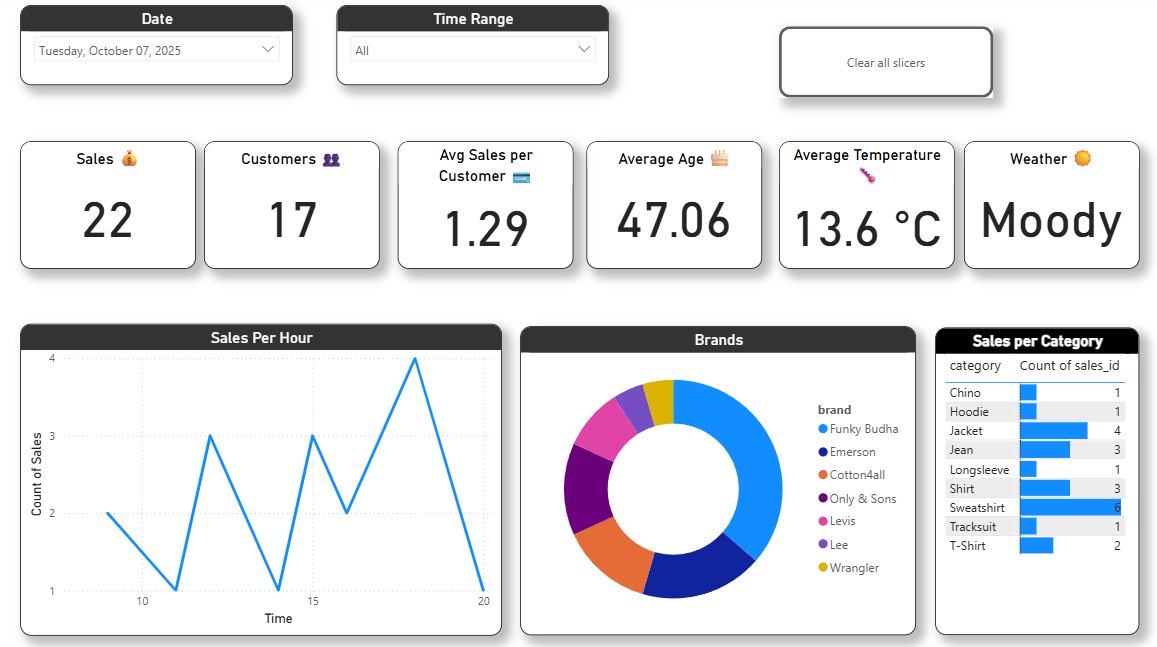

This screenshot's page, from the dashboard's own definition file:
{"tool":"powerbi","page":{"name":"Previus Day 1","canvas":[1280,720],"ordinal":1},"visuals":[{"type":"slicer","title":"Date","fields":{"Values":["retail v_kpi_daily.day"]},"box":[28.5,11.4,299.3,88.4],"z":0},{"type":"lineChart","title":"Sales Per Hour","fields":{"Y":["CountNonNull(retail v_sales_fct.sales_id)"],"Category":["retail v_sales_fct.HourOrder"]},"box":[28.5,360.6,528.8,342.1],"z":1000},{"type":"actionButton","box":[862.4,34.2,235.2,78.4],"z":2000},{"type":"card","title":"Sales 💰","fields":{"Values":["CountNonNull(retail v_sales_fct.sales_id)"]},"box":[28.5,161.1,192.4,139.7],"z":3000},{"type":"card","title":"Average Temperature 🌡️","fields":{"Values":["retail v_sales_fct.AvgWeather_C"]},"box":[862.4,161.1,192.4,139.7],"z":4000},{"type":"card","title":"Customers 👥","fields":{"Values":["Count(retail v_sales_fct.customer_id)"]},"box":[230.9,161.1,192.4,139.7],"z":5000},{"type":"donutChart","title":"Brands","fields":{"Category":["retail v_sales_fct.brand"],"Y":["CountNonNull(retail v_sales_fct.brand)"]},"box":[577.3,363.5,434.7,339.2],"z":6000},{"type":"card","title":"Average Age 🎂","fields":{"Values":["Avg(retail v_customer.age)"]},"box":[650,161.1,192.4,139.7],"z":7000},{"type":"card","title":"Avg Sales per Customer 💳","fields":{"Values":["retail v_sales_fct.Avg Sales per Customer"]},"box":[443.3,161.1,192.4,139.7],"z":8000},{"type":"card","title":"Weather ☀️","fields":{"Values":["Min(retail v_sales_fct.weather)"]},"box":[1064.8,161.1,192.4,139.7],"z":9000},{"type":"tableEx","title":"Sales per Category","fields":{"Values":["retail v_sales_fct.category","CountNonNull(retail v_sales_fct.sales_id)"]},"box":[1033.4,364.9,223.8,337.8],"z":10000},{"type":"slicer","title":"Time Range","fields":{"Values":["retail v_sales_fct.time_range"]},"box":[376.3,11.4,299.3,88.4],"z":11000}]}

Visuals, with their boxes in screenshot pixels (x1, y1, x2, y2), scaled from the page's 1280x720 canvas onto the 1157x647 screenshot:
"Date" slicer: (26, 10, 296, 90)
"Sales Per Hour" lineChart: (26, 324, 504, 631)
actionButton: (780, 31, 992, 101)
"Sales 💰" card: (26, 145, 200, 270)
"Average Temperature 🌡️" card: (780, 145, 953, 270)
"Customers 👥" card: (209, 145, 383, 270)
"Brands" donutChart: (522, 327, 915, 631)
"Average Age 🎂" card: (588, 145, 761, 270)
"Avg Sales per Customer 💳" card: (401, 145, 575, 270)
"Weather ☀️" card: (962, 145, 1136, 270)
"Sales per Category" tableEx: (934, 328, 1136, 631)
"Time Range" slicer: (340, 10, 611, 90)
